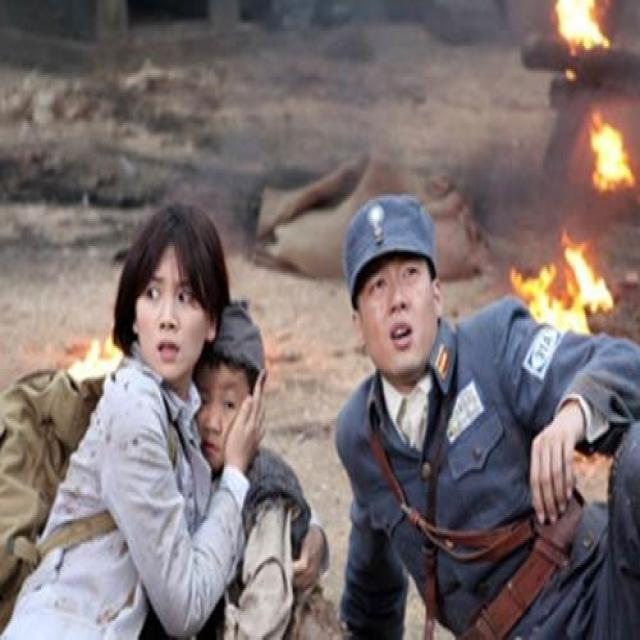Fire: (504, 226, 618, 341), (581, 101, 640, 197), (62, 330, 128, 390), (554, 0, 616, 56)
Smoke: (177, 0, 385, 204)
